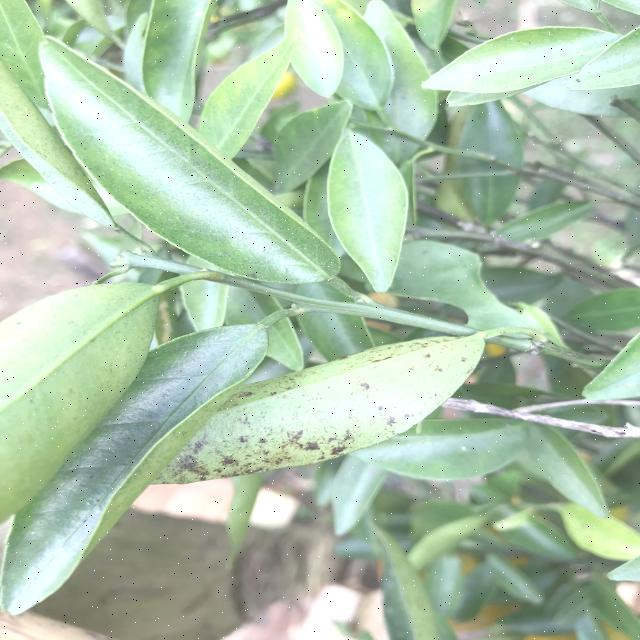melanose: (134, 311, 508, 497)
